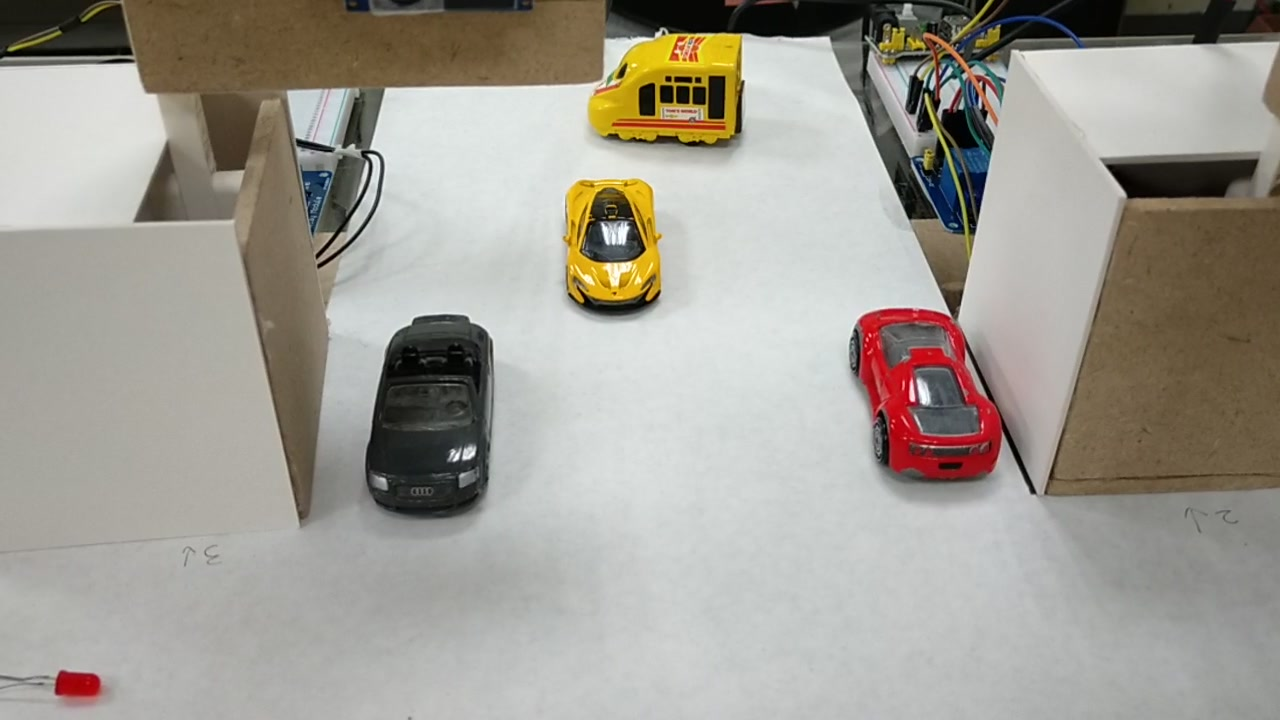car: (856, 310, 993, 489), (365, 307, 487, 501), (564, 166, 653, 304)
